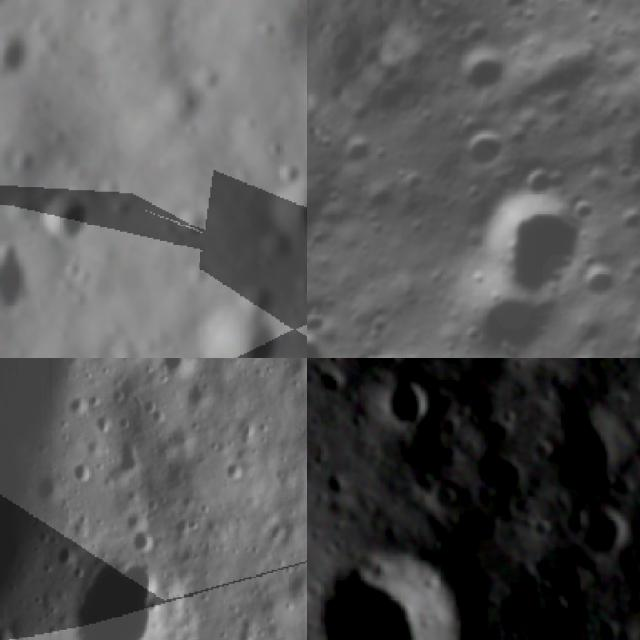crater: (441, 158, 605, 322), (307, 538, 470, 640), (444, 264, 566, 358), (184, 272, 307, 358), (60, 560, 183, 640), (436, 108, 512, 184), (557, 419, 633, 494), (443, 34, 517, 107), (0, 218, 42, 321), (264, 164, 307, 251), (473, 448, 533, 510), (573, 504, 631, 568), (32, 181, 92, 241), (382, 375, 431, 437), (574, 253, 628, 307), (356, 179, 410, 233), (0, 18, 41, 89), (333, 124, 384, 176), (451, 8, 497, 54), (170, 199, 214, 243), (275, 555, 307, 608), (110, 435, 144, 482), (58, 387, 102, 423), (3, 142, 41, 181), (490, 0, 539, 23), (183, 378, 215, 412), (614, 202, 640, 241), (155, 358, 199, 380), (70, 458, 102, 487), (347, 344, 413, 358), (219, 460, 253, 486), (622, 377, 640, 426), (273, 153, 300, 184), (307, 302, 331, 335), (578, 4, 604, 30), (307, 329, 330, 358), (439, 358, 482, 369), (98, 408, 115, 434), (401, 358, 441, 369), (629, 539, 640, 575)
